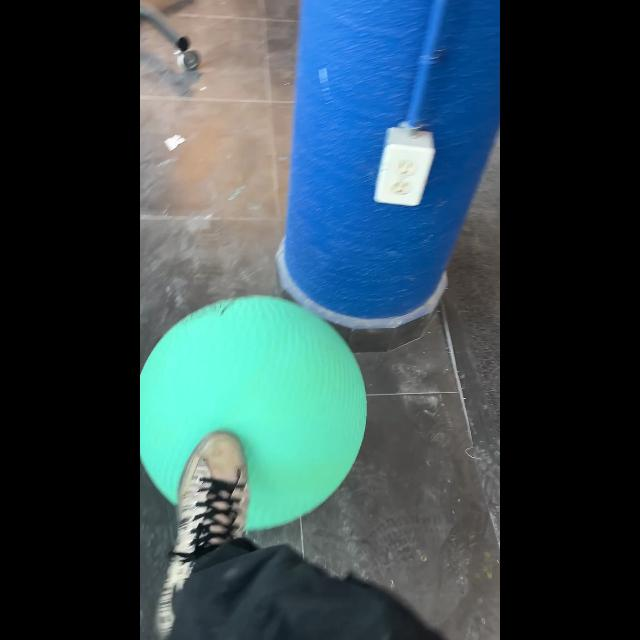ALGAE: (140, 294, 368, 532)
